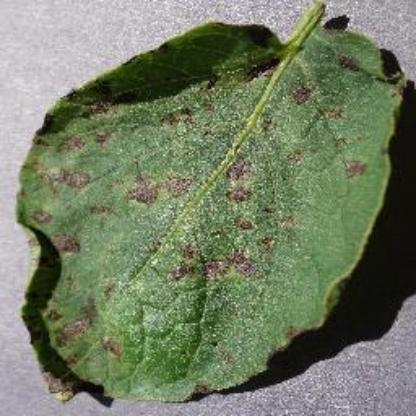Early-Blight: (9, 9, 410, 409)
